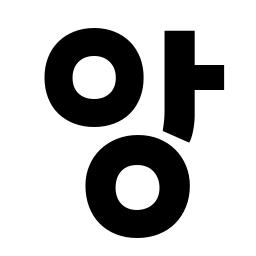Gaji: (153, 53, 214, 106)
